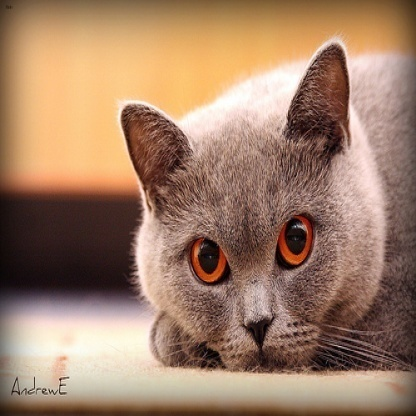british_shorthair: (119, 38, 416, 372)
